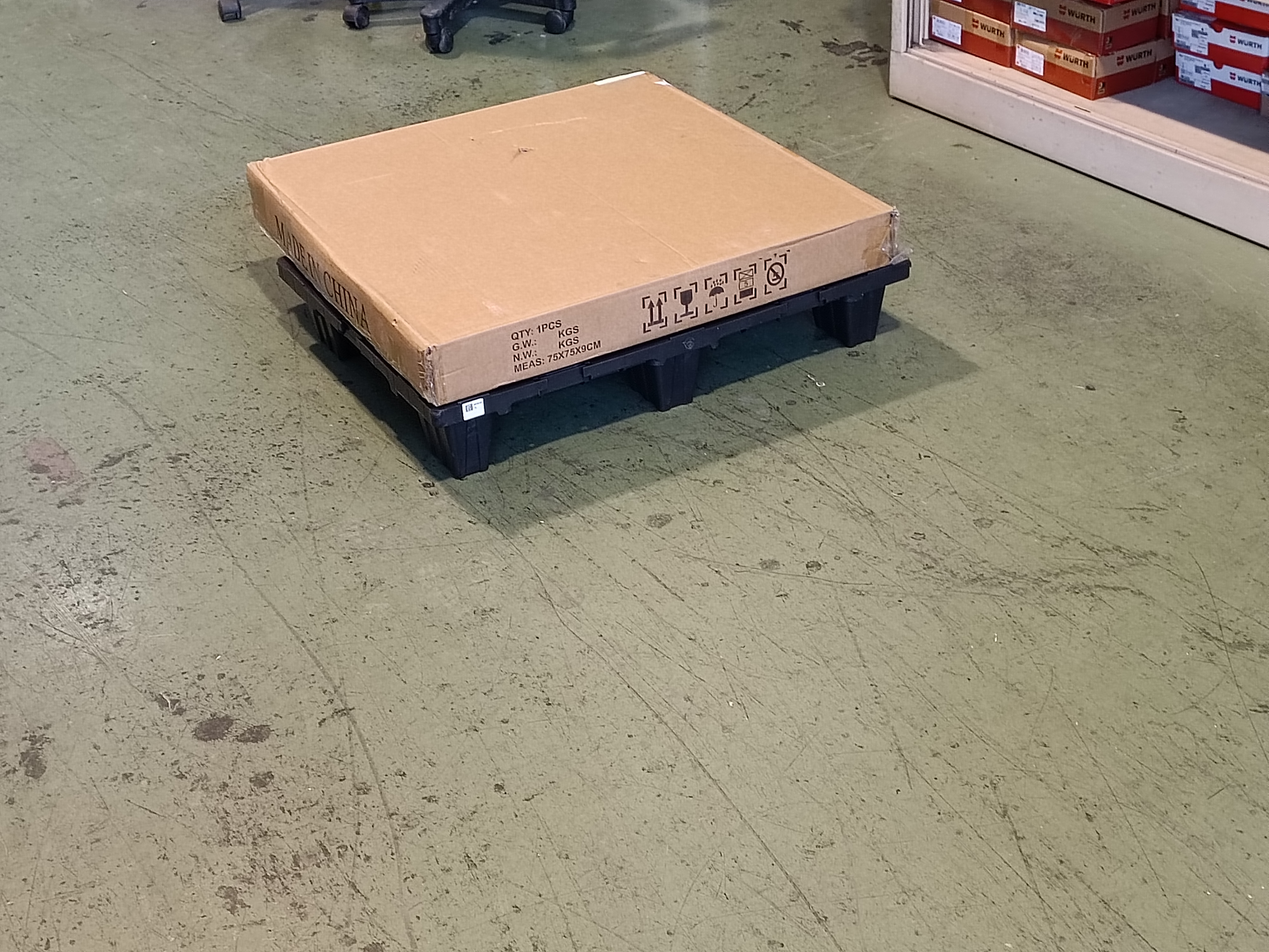block: (436, 393, 495, 486), (650, 334, 708, 416), (831, 273, 886, 349)
front: (425, 252, 919, 495)
hole pallet: (501, 363, 660, 460), (706, 302, 848, 391)
